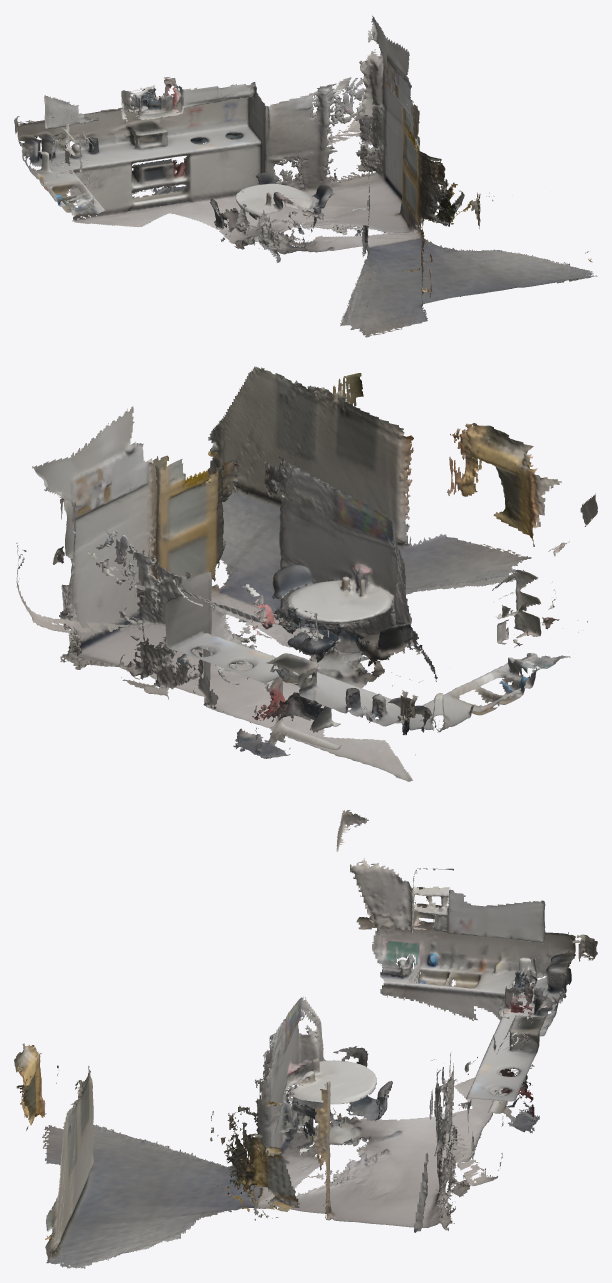
The model's file is scan-8d8a4bfd5736.glb.
The picture shows the model from 3 angles, top to bottom: view 1: azimuth 30°, elevation 25°; view 2: azimuth 150°, elevation 25°; view 3: azimuth 270°, elevation 25°; orthographic projection. The views are drawn at different scales.
Bounding box in the file's own units: 6.9 × 3.26 × 6.97.
